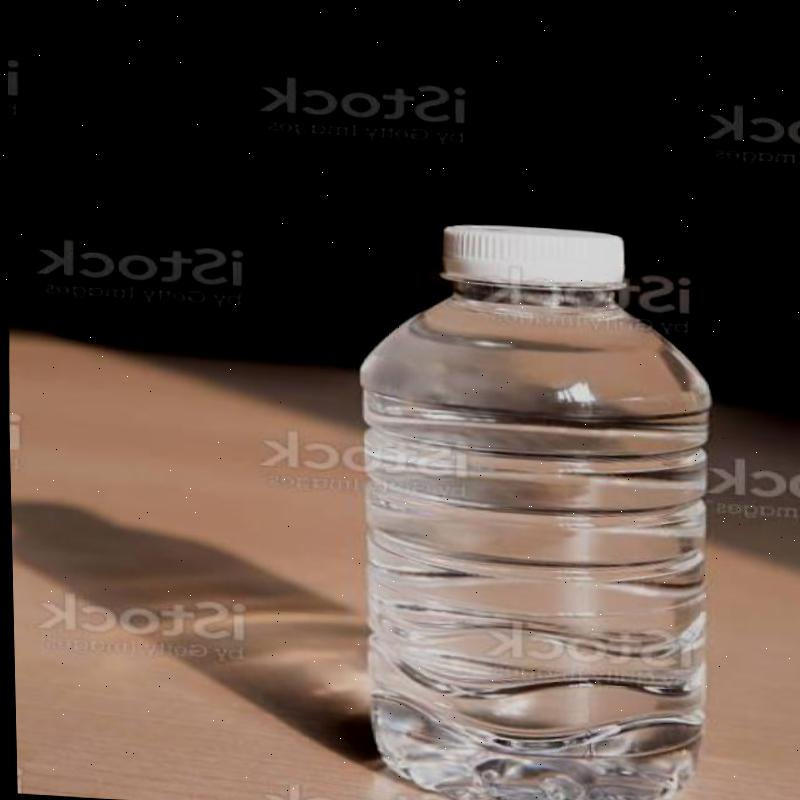botella: (351, 213, 730, 800)
